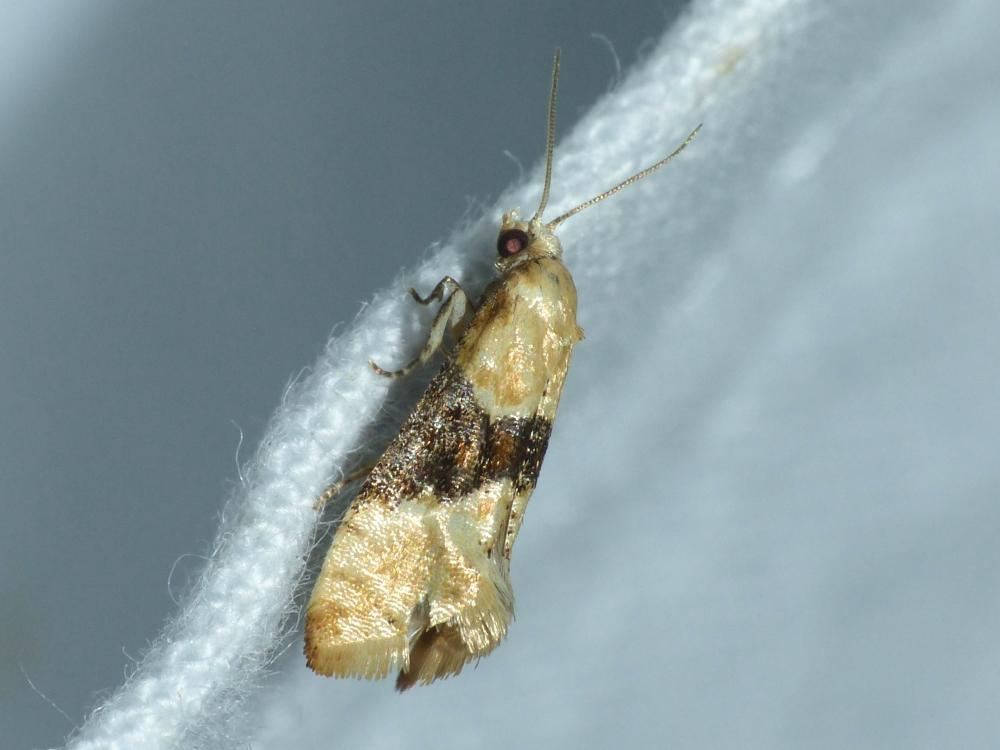Eupoecilia Ambiguella: (298, 43, 705, 693)
